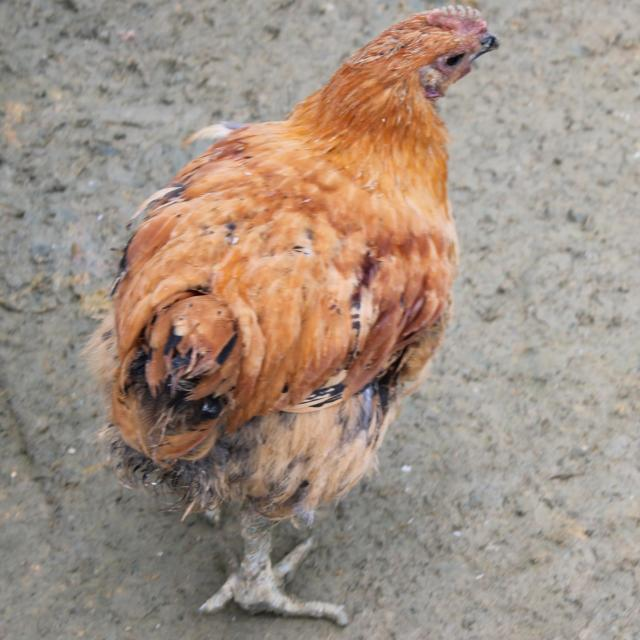hen: (87, 8, 497, 625)
